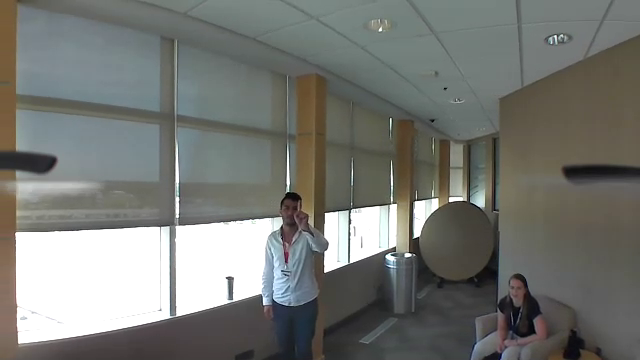up: (290, 196, 314, 230)
